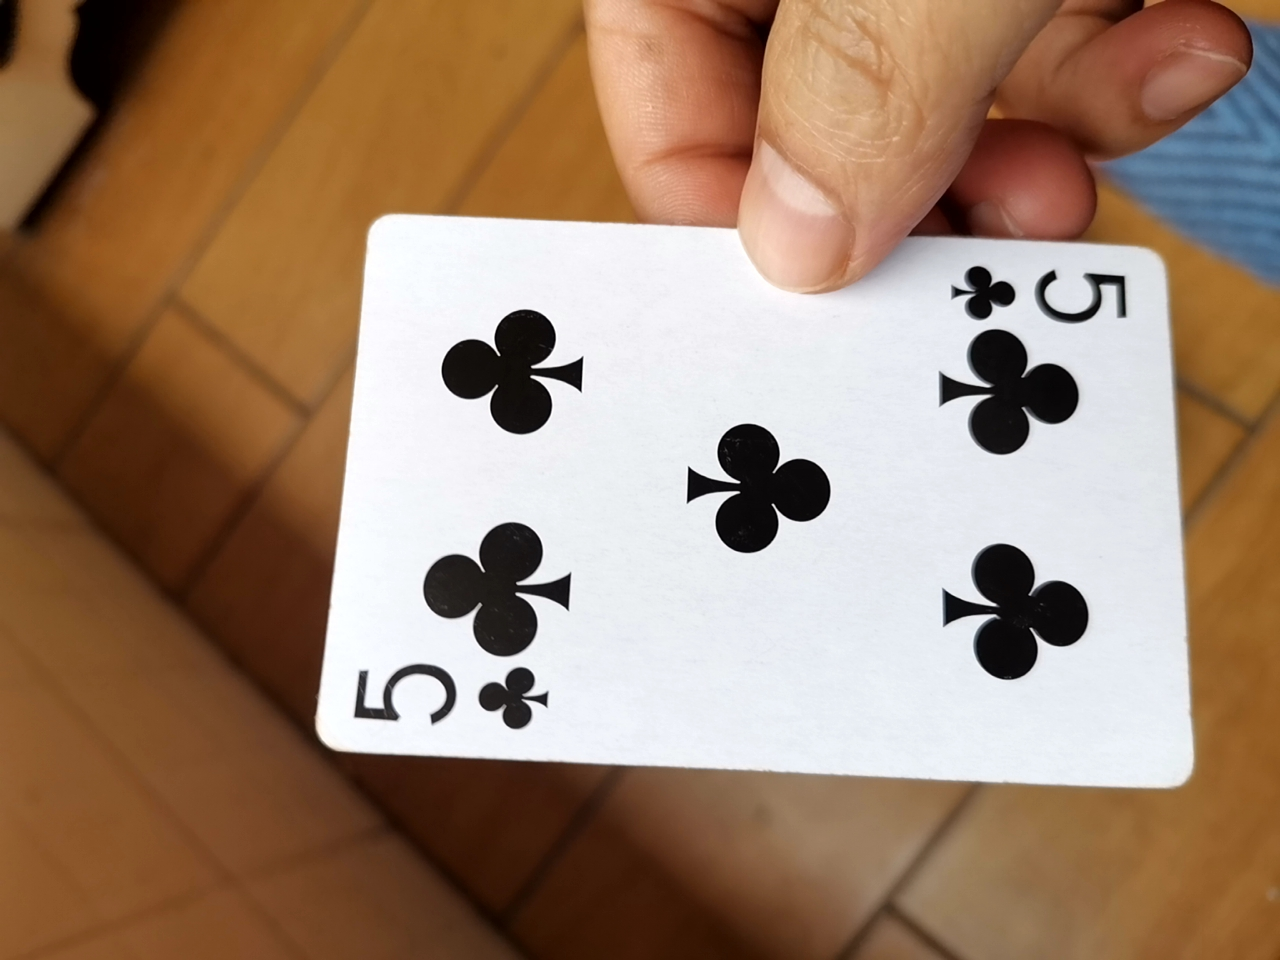mh 5: (309, 213, 1194, 790)
